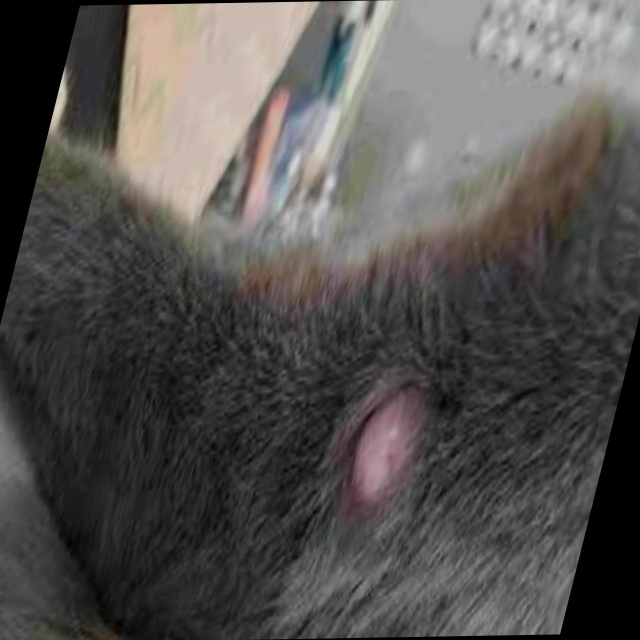lump_and_bump: (324, 374, 440, 518)
